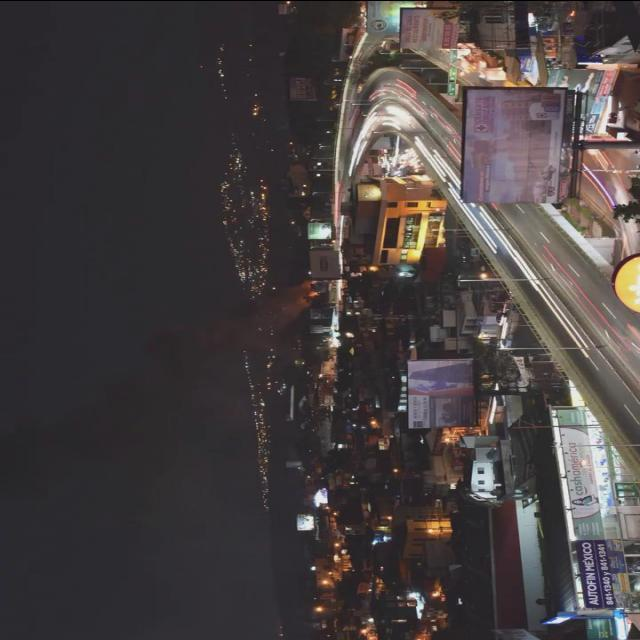Fire: (306, 292, 321, 296)
